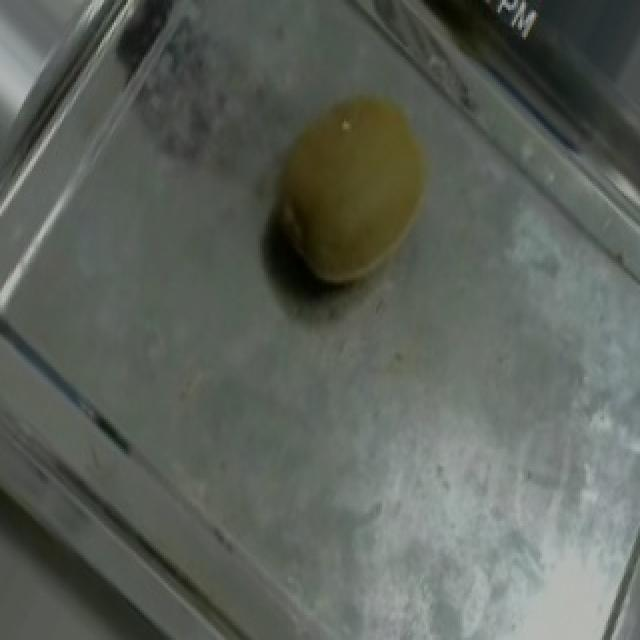Fruit: (228, 62, 470, 320)
